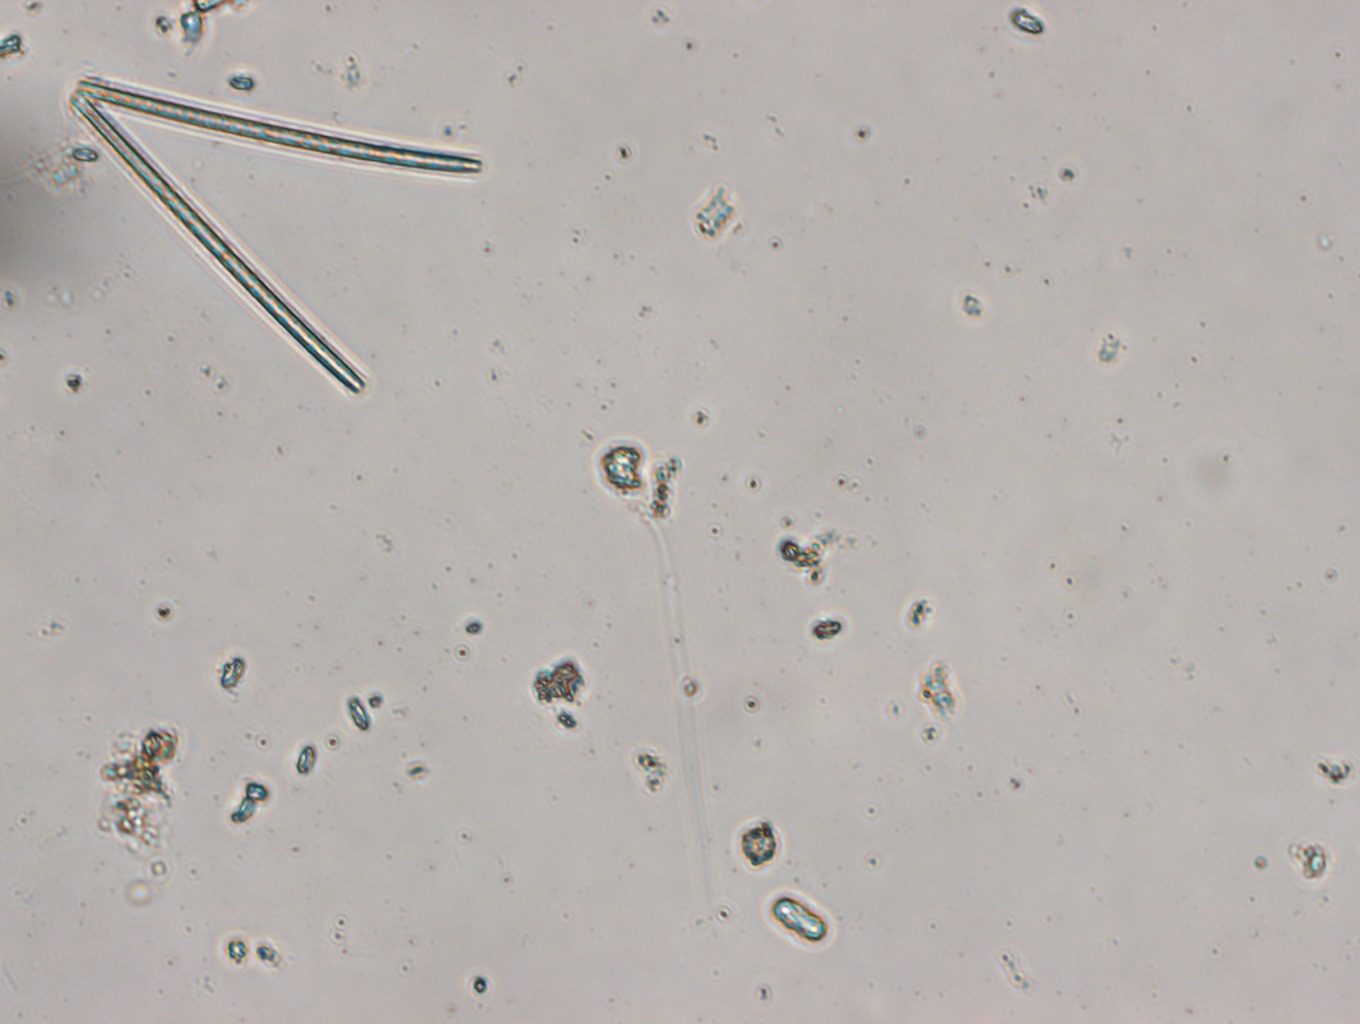thalassionema frauenfeldii: (66, 80, 483, 395)
